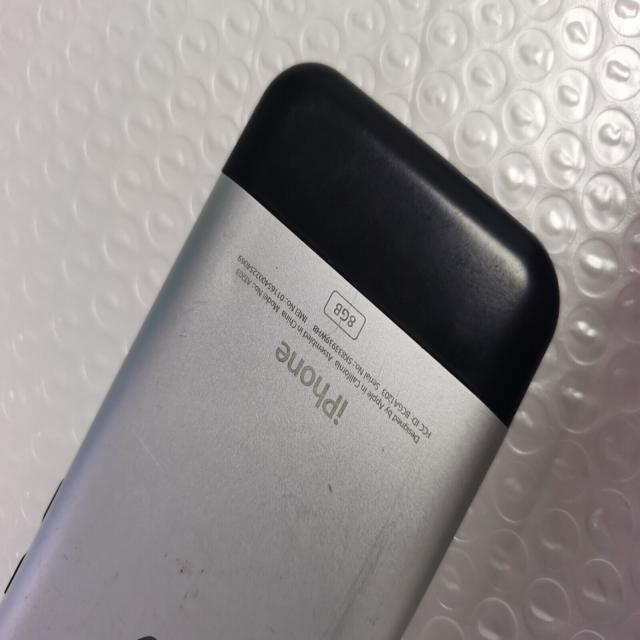Dents: (318, 471, 346, 514), (167, 561, 225, 580), (378, 441, 392, 459)
